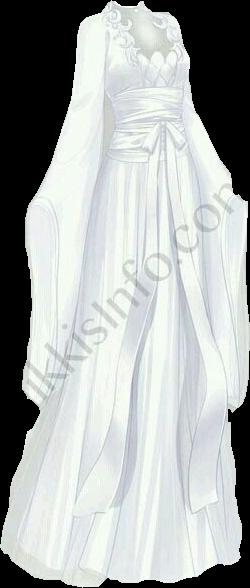Bodice: (93, 1, 192, 164)
Hemline: (0, 543, 243, 587)
Neckline: (108, 0, 176, 59), (127, 46, 178, 92), (104, 84, 184, 101)
Skirt: (1, 152, 241, 586)
Sleeve: (22, 15, 108, 405)
Sleeveline: (90, 15, 111, 75)
Waistline: (103, 152, 194, 170)
